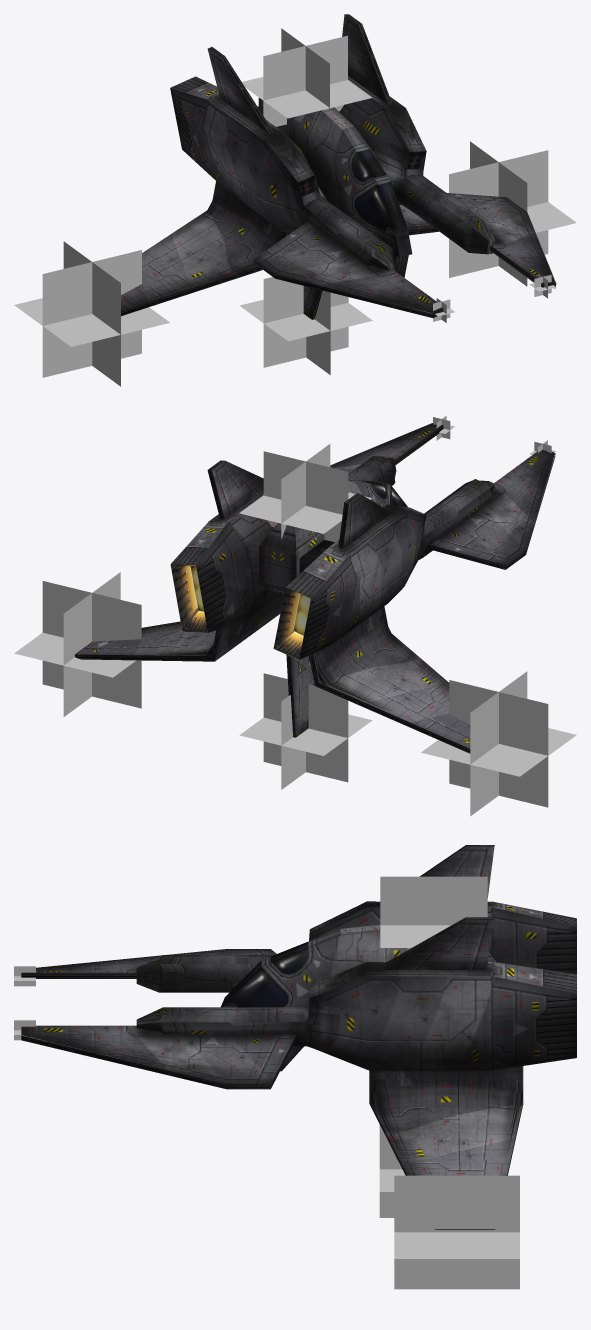
Rendered from lancelot.obj.
3 renders of one model, top to bottom at view 1: azimuth 30°, elevation 25°; view 2: azimuth 150°, elevation 25°; view 3: azimuth 270°, elevation 25°, orthographic. The views are drawn at different scales.
Size of the model in its own units: 31.91 by 18.76 by 28.05.
